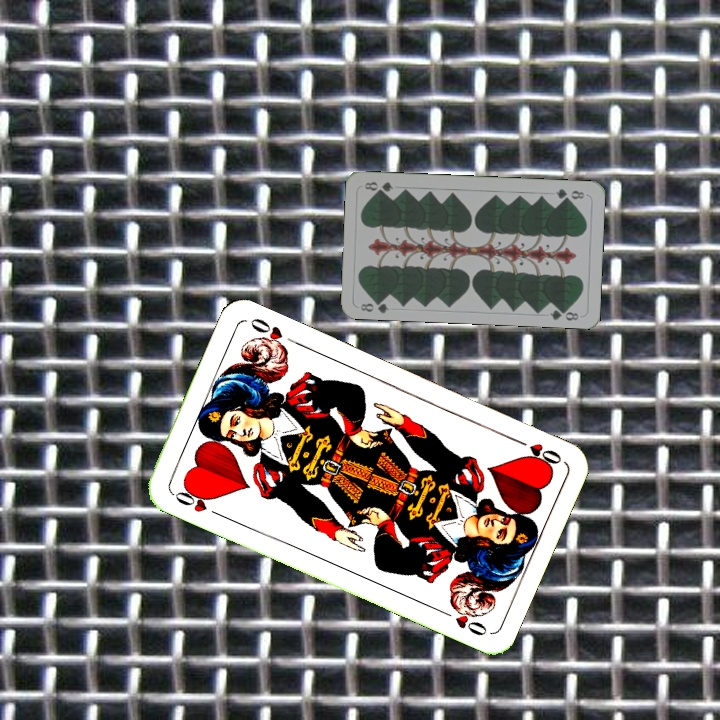G8: (356, 295, 391, 316), (552, 184, 587, 203)
HO: (168, 482, 224, 520), (509, 433, 565, 470)
